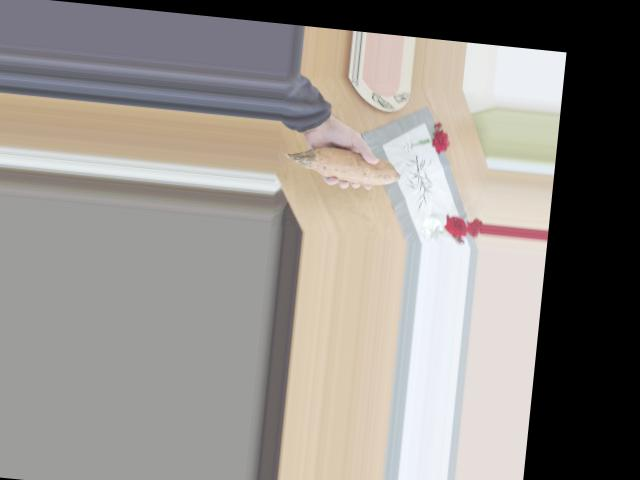sweet_potato: (292, 133, 406, 192)
